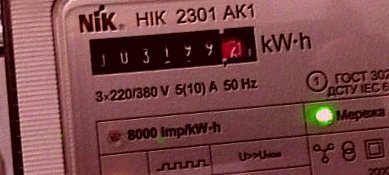0: (93, 47, 108, 69), (116, 44, 130, 65)
1: (160, 39, 172, 59)
3: (138, 44, 151, 64)
6: (227, 42, 239, 59)
9: (180, 37, 194, 58), (202, 36, 215, 56)
screen: (80, 13, 268, 89)
